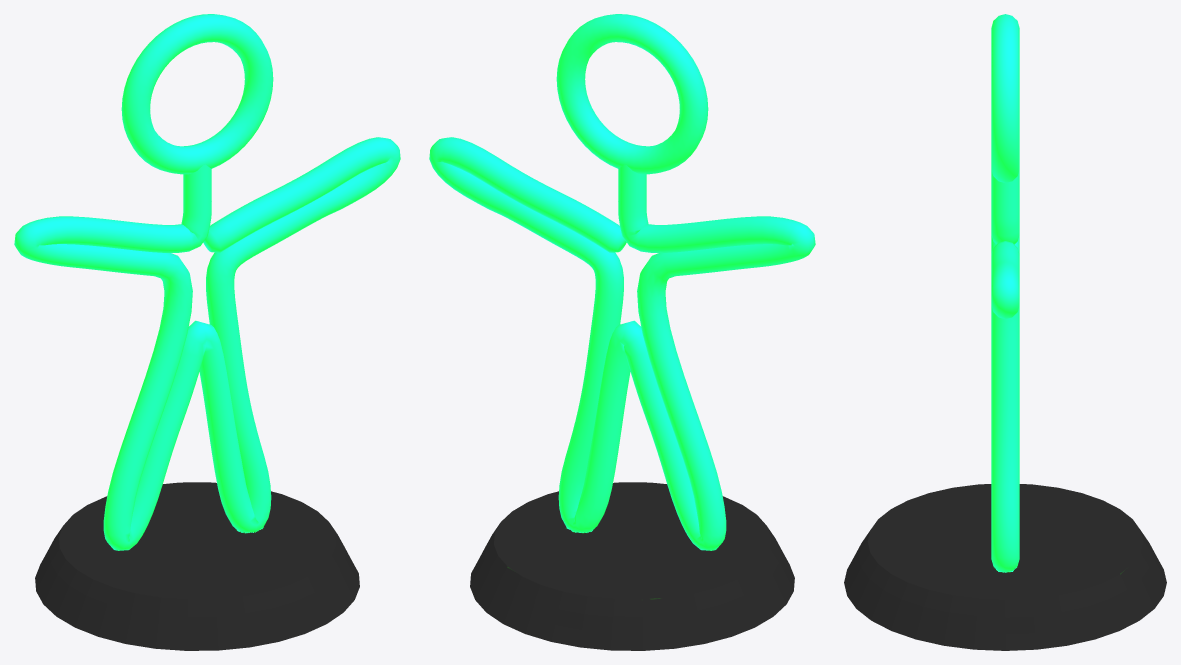
The model's file is GlowingStickmanBlue.fbx.
The picture shows the model from 3 angles, left to right: view 1: azimuth 30°, elevation 25°; view 2: azimuth 150°, elevation 25°; view 3: azimuth 270°, elevation 25°; orthographic projection.
Visible parts, largest first — view 1: GlowingStickmanBlueBaked; view 2: GlowingStickmanBlueBaked; view 3: GlowingStickmanBlueBaked.
Part boxes in pixels (bbox=[...]): GlowingStickmanBlueBaked: bbox=[14, 14, 400, 650]; GlowingStickmanBlueBaked: bbox=[429, 14, 815, 650]; GlowingStickmanBlueBaked: bbox=[844, 14, 1166, 650].
Bounding box in the file's own units: 69.79 × 98.61 × 51.46.
